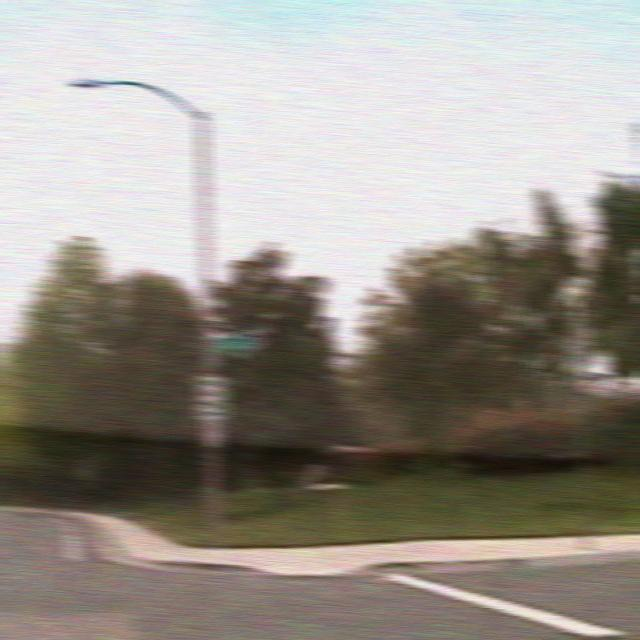speedLimit35: (193, 372, 228, 420)
